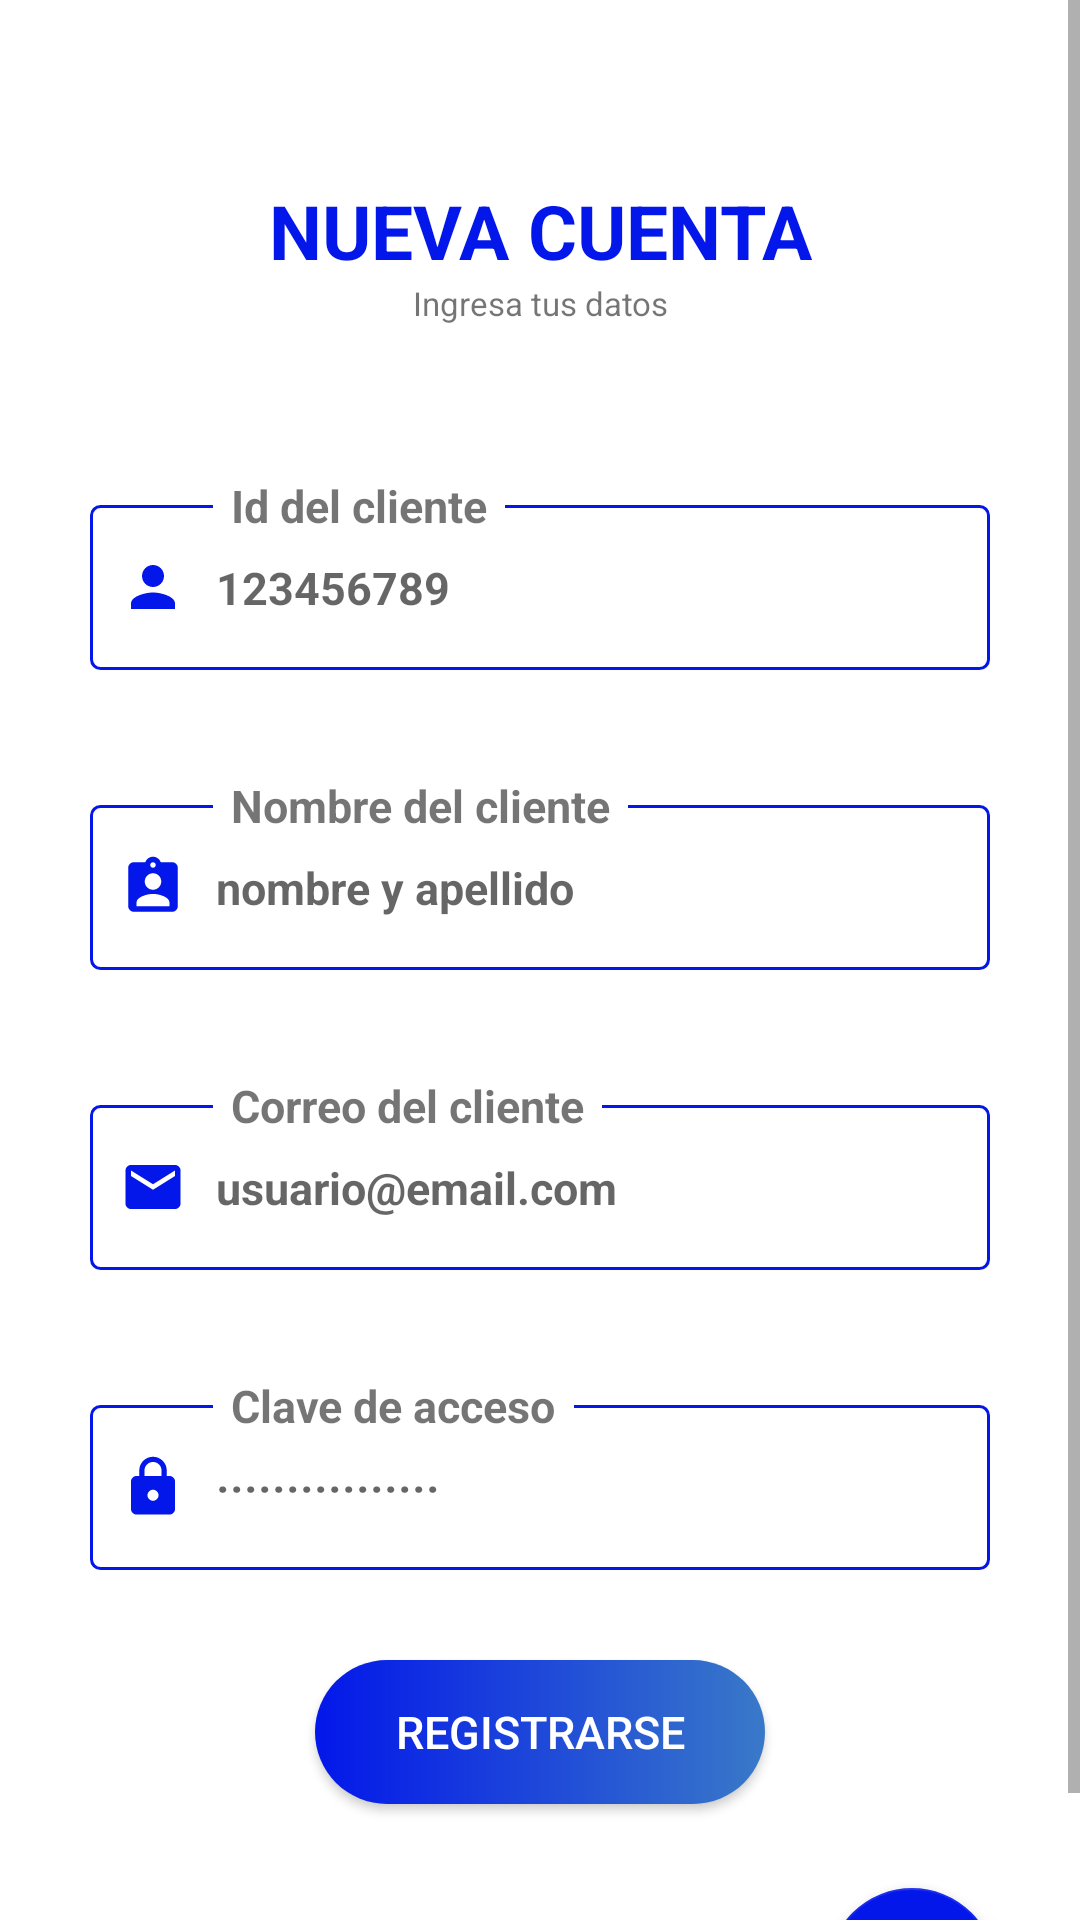

Icon click points for this 1080 × 1920 phone screenshot, format [x,y]:
clave quickcellar: [153,1485]
emailcliente: [153,1187]
idcliente: [153,587]
nombre quickcellar: [153,884]
